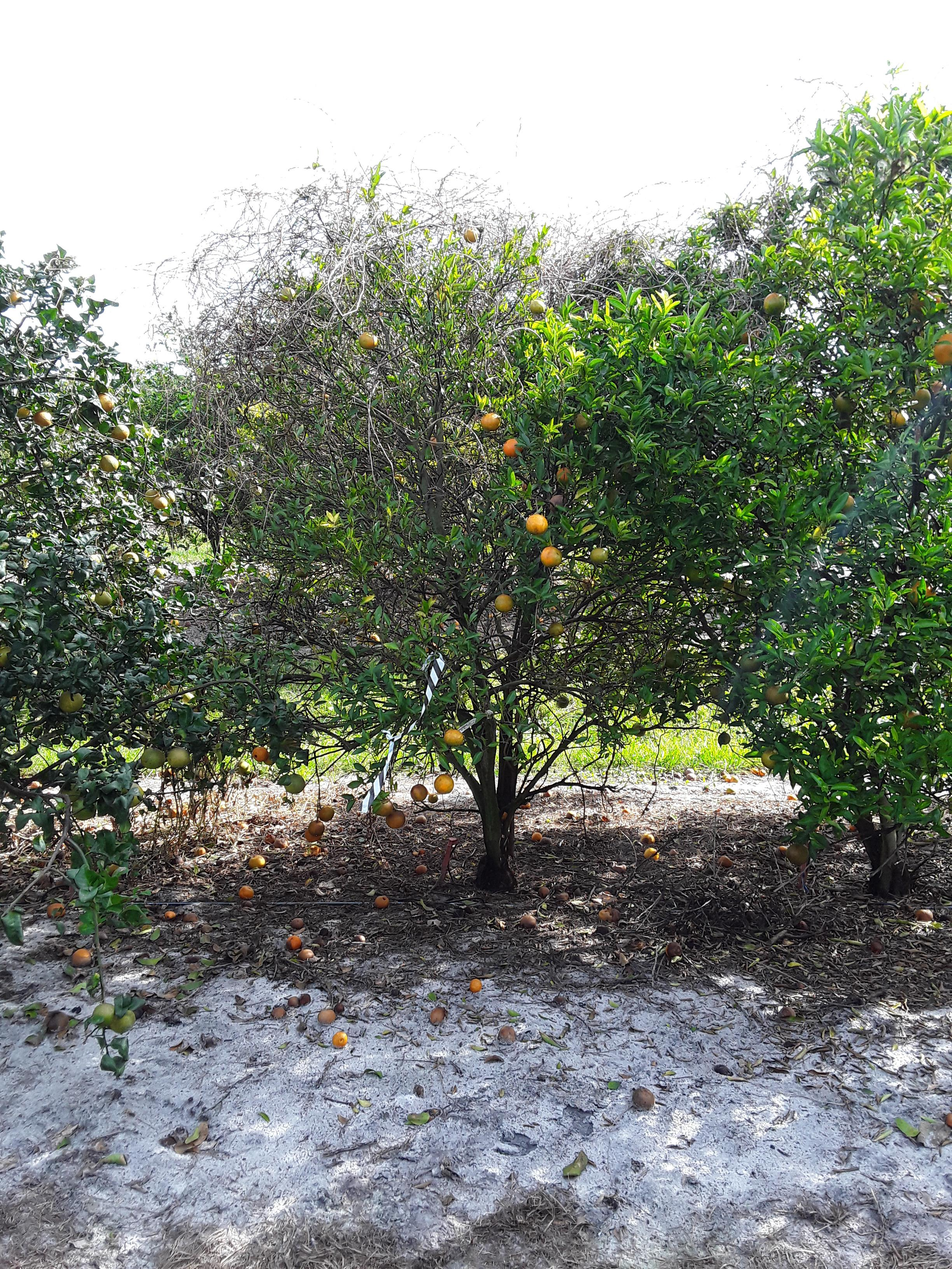fruit_on_ground: (905, 285, 944, 318), (905, 576, 938, 607), (116, 780, 146, 811), (108, 1005, 137, 1033), (760, 291, 789, 318), (899, 706, 928, 732), (930, 332, 952, 365), (763, 681, 791, 706), (58, 689, 86, 714), (523, 512, 550, 537), (91, 1001, 117, 1026), (785, 841, 810, 866), (738, 649, 764, 673), (478, 409, 504, 433), (140, 745, 166, 769), (539, 545, 565, 569), (59, 781, 85, 804), (831, 391, 857, 414), (883, 407, 908, 430), (168, 744, 191, 769), (909, 386, 933, 409), (611, 460, 637, 481), (835, 490, 858, 513), (492, 592, 515, 615), (737, 326, 761, 348), (760, 745, 782, 769), (434, 281, 456, 304), (356, 329, 379, 351), (442, 726, 465, 748), (32, 407, 55, 429), (572, 409, 594, 431), (119, 549, 142, 570), (283, 774, 306, 795), (501, 436, 522, 458), (587, 545, 609, 566), (98, 453, 120, 474), (96, 392, 118, 413), (72, 801, 95, 821), (434, 772, 455, 793), (554, 464, 576, 484), (109, 422, 131, 442), (603, 487, 623, 508), (84, 547, 104, 568), (385, 809, 406, 829), (0, 639, 13, 670), (662, 648, 682, 668), (408, 782, 428, 802), (16, 474, 37, 493), (93, 588, 114, 607), (548, 491, 570, 509), (278, 284, 298, 303), (526, 297, 546, 316), (317, 803, 336, 822), (281, 736, 301, 754), (546, 620, 566, 638), (375, 798, 394, 816), (6, 286, 23, 306), (366, 629, 384, 647), (308, 819, 326, 837), (461, 225, 479, 243), (14, 403, 33, 420), (234, 758, 252, 775), (251, 745, 269, 762), (143, 486, 161, 503), (304, 826, 321, 843), (709, 684, 727, 700), (153, 565, 170, 581), (928, 378, 945, 394), (152, 495, 169, 511), (716, 730, 732, 746), (555, 692, 571, 708), (631, 722, 647, 738), (161, 488, 176, 503), (427, 789, 440, 804)
fruit_on_tree: (44, 1008, 72, 1033), (631, 1085, 656, 1112), (70, 946, 94, 969), (497, 1023, 517, 1044), (45, 900, 67, 919), (428, 1005, 448, 1025), (317, 1007, 336, 1026), (777, 1003, 797, 1021), (248, 852, 268, 870), (913, 906, 934, 923), (665, 939, 683, 958), (332, 1029, 349, 1048), (868, 937, 885, 955), (285, 933, 303, 950), (599, 906, 618, 922), (104, 861, 122, 877), (52, 874, 70, 890), (519, 912, 537, 928), (468, 977, 484, 994), (238, 883, 255, 899), (263, 832, 281, 847), (303, 842, 322, 856), (299, 946, 316, 961), (716, 853, 733, 868), (373, 894, 390, 909), (713, 1061, 731, 1075), (639, 830, 654, 846), (775, 841, 790, 856), (551, 991, 567, 1005), (273, 834, 289, 848), (289, 915, 305, 929), (942, 1108, 952, 1130), (184, 910, 199, 924), (298, 991, 313, 1005), (27, 778, 43, 791), (271, 1005, 287, 1018), (794, 917, 808, 931), (199, 922, 214, 935), (413, 813, 428, 826), (643, 847, 658, 860), (193, 844, 207, 857), (556, 890, 570, 903), (163, 908, 177, 921), (414, 862, 428, 875), (537, 883, 550, 896), (530, 829, 543, 842), (165, 807, 179, 819), (724, 784, 737, 796), (334, 1000, 346, 1013), (666, 920, 678, 932), (287, 994, 299, 1006), (498, 809, 511, 820), (599, 812, 611, 823), (786, 792, 798, 802), (519, 799, 531, 809), (750, 766, 761, 776), (757, 767, 768, 777), (684, 767, 696, 776), (685, 773, 698, 781), (729, 774, 739, 784)
